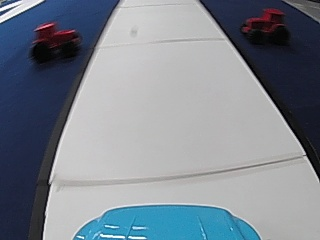tractor: (29, 20, 80, 63), (241, 6, 288, 46)
